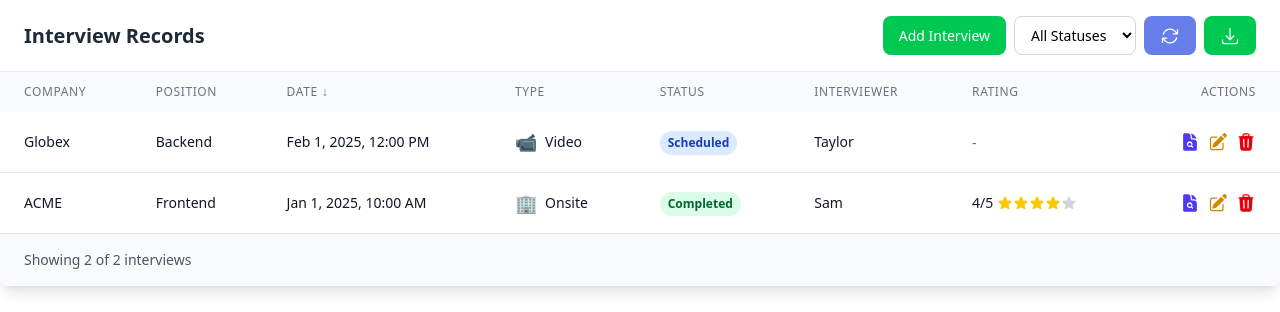
InterviewsTable › displays empty state when no interviews match filter
Expected: the text "ACME" is shown, [24,193,62,212]
Step 1. Select "Pending" in the dropdown with test id "filter-status" → (1075, 36), box [1014,16,1136,55]
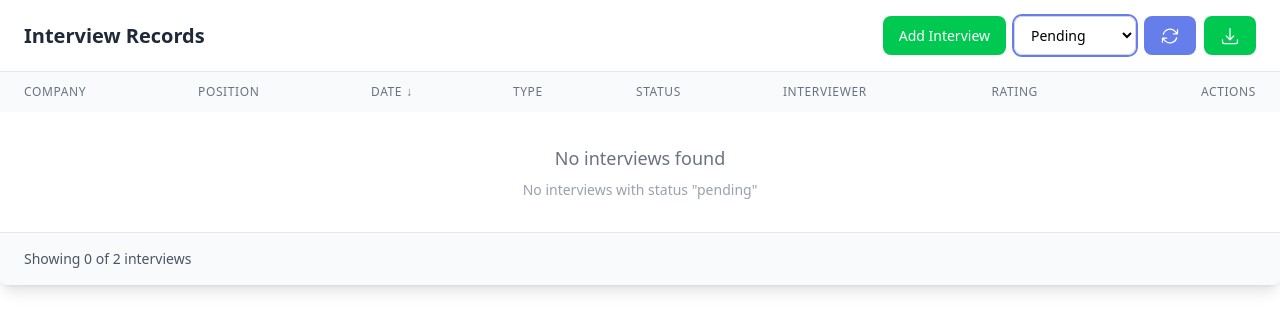
Expected: the text "No interviews with status \"pending\"" is shown, [523,180,757,199]
